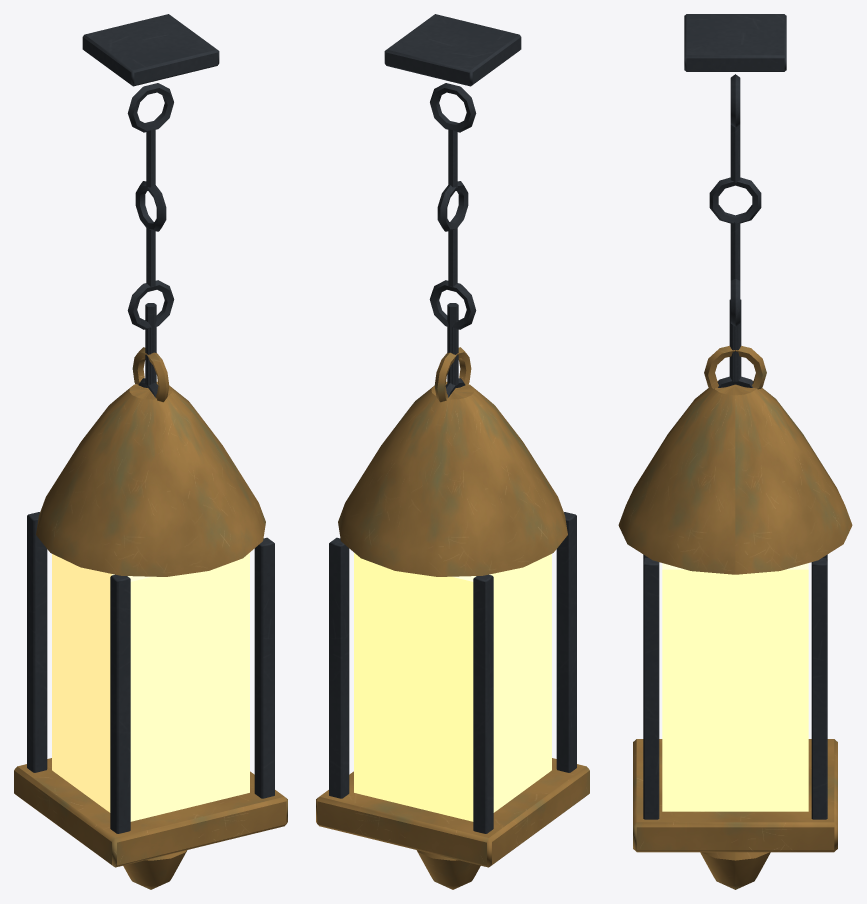
The model's file is settlement_townhall_ceiling_lamp_pendant.gltf.
3 renders of one model, left to right at view 1: azimuth 30°, elevation 25°; view 2: azimuth 150°, elevation 25°; view 3: azimuth 270°, elevation 25°, orthographic.
Parts seen in each view (by area): view 1: settlement_townhall_ceiling_lamp_pendant_LOD0; view 2: settlement_townhall_ceiling_lamp_pendant_LOD0; view 3: settlement_townhall_ceiling_lamp_pendant_LOD0.
Part boxes in pixels (<box>): settlement_townhall_ceiling_lamp_pendant_LOD0: <box>14,14,287,889</box>; settlement_townhall_ceiling_lamp_pendant_LOD0: <box>316,14,589,889</box>; settlement_townhall_ceiling_lamp_pendant_LOD0: <box>618,14,852,889</box>.
Size of what is drawn, in the model's own units: 0.32 by 1.29 by 0.32.
3 materials, 2 textured.
